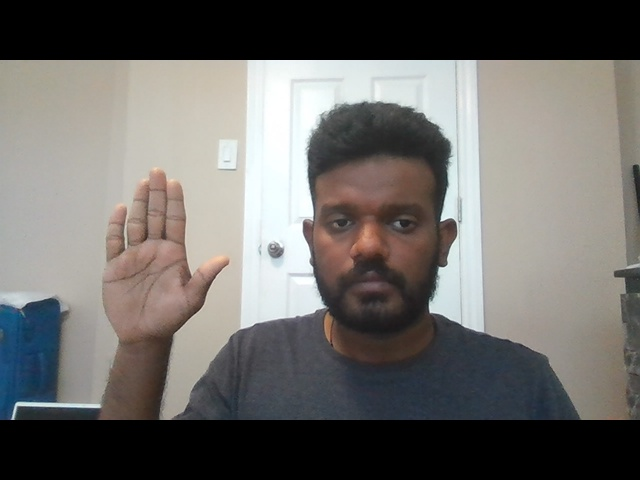hello: (101, 163, 231, 350)
